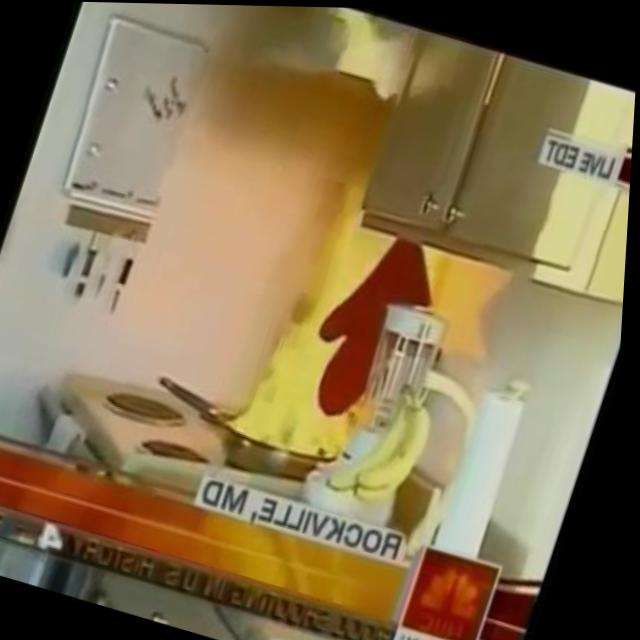fire: (206, 153, 460, 471), (293, 5, 424, 111)
